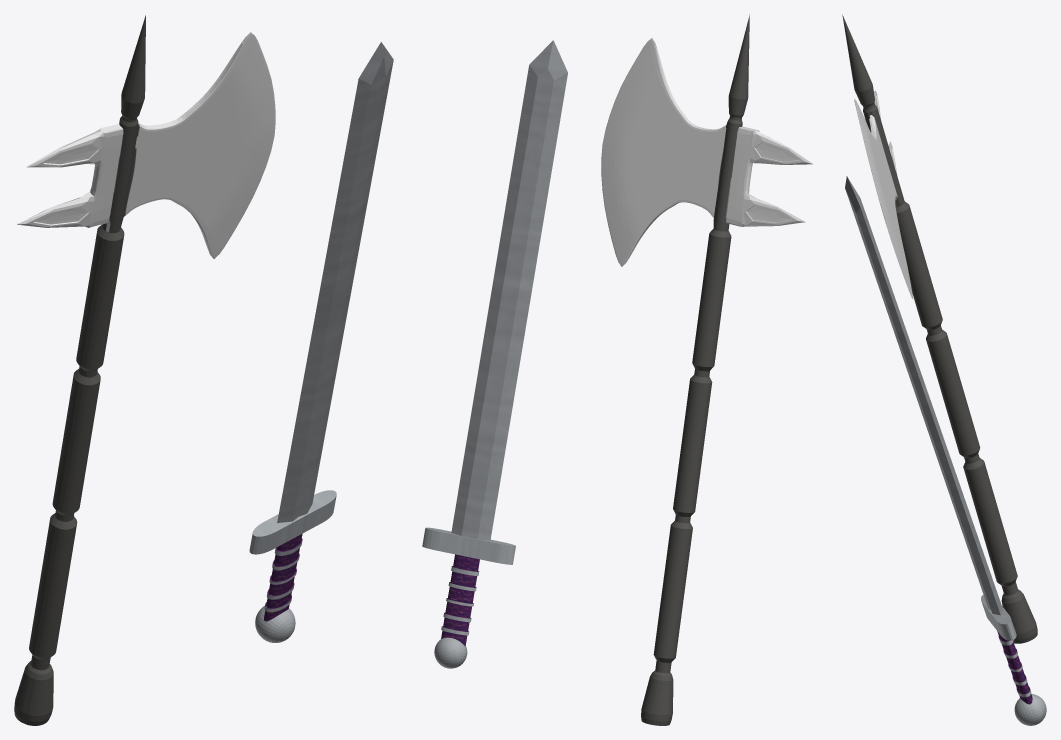
Rendered from weapons.obj.
3 renders of one model, left to right at view 1: azimuth 30°, elevation 25°; view 2: azimuth 150°, elevation 25°; view 3: azimuth 270°, elevation 25°, orthographic. The views are drawn at different scales.
Parts seen in each view (by area): view 1: Cylinder1_extract2_default; view 2: Cylinder1_extract2_default; view 3: Cylinder1_extract2_default.
Boxes of the visible parts, left/top/right/bottom form: Cylinder1_extract2_default: left=14, top=15, right=393, bottom=725; Cylinder1_extract2_default: left=422, top=14, right=812, bottom=725; Cylinder1_extract2_default: left=842, top=14, right=1046, bottom=725.
Size of the model in its own units: 0.6336 by 1.21 by 0.3593.
1 material, 1 textured.
